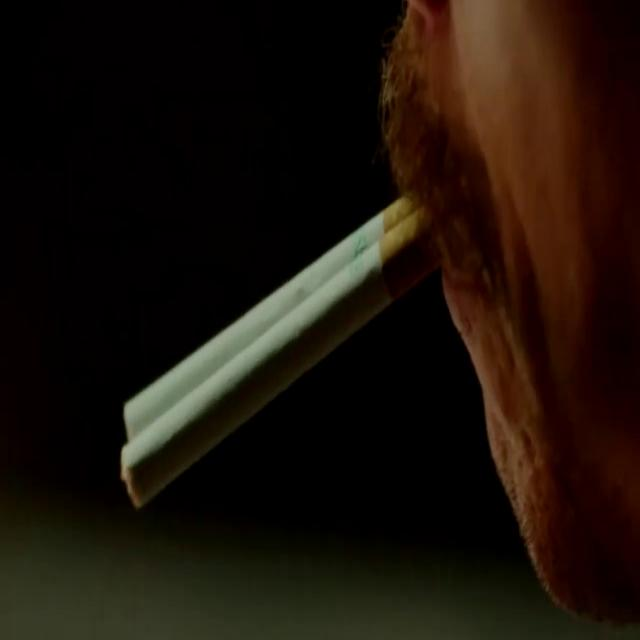Smooking: (86, 176, 467, 524)
